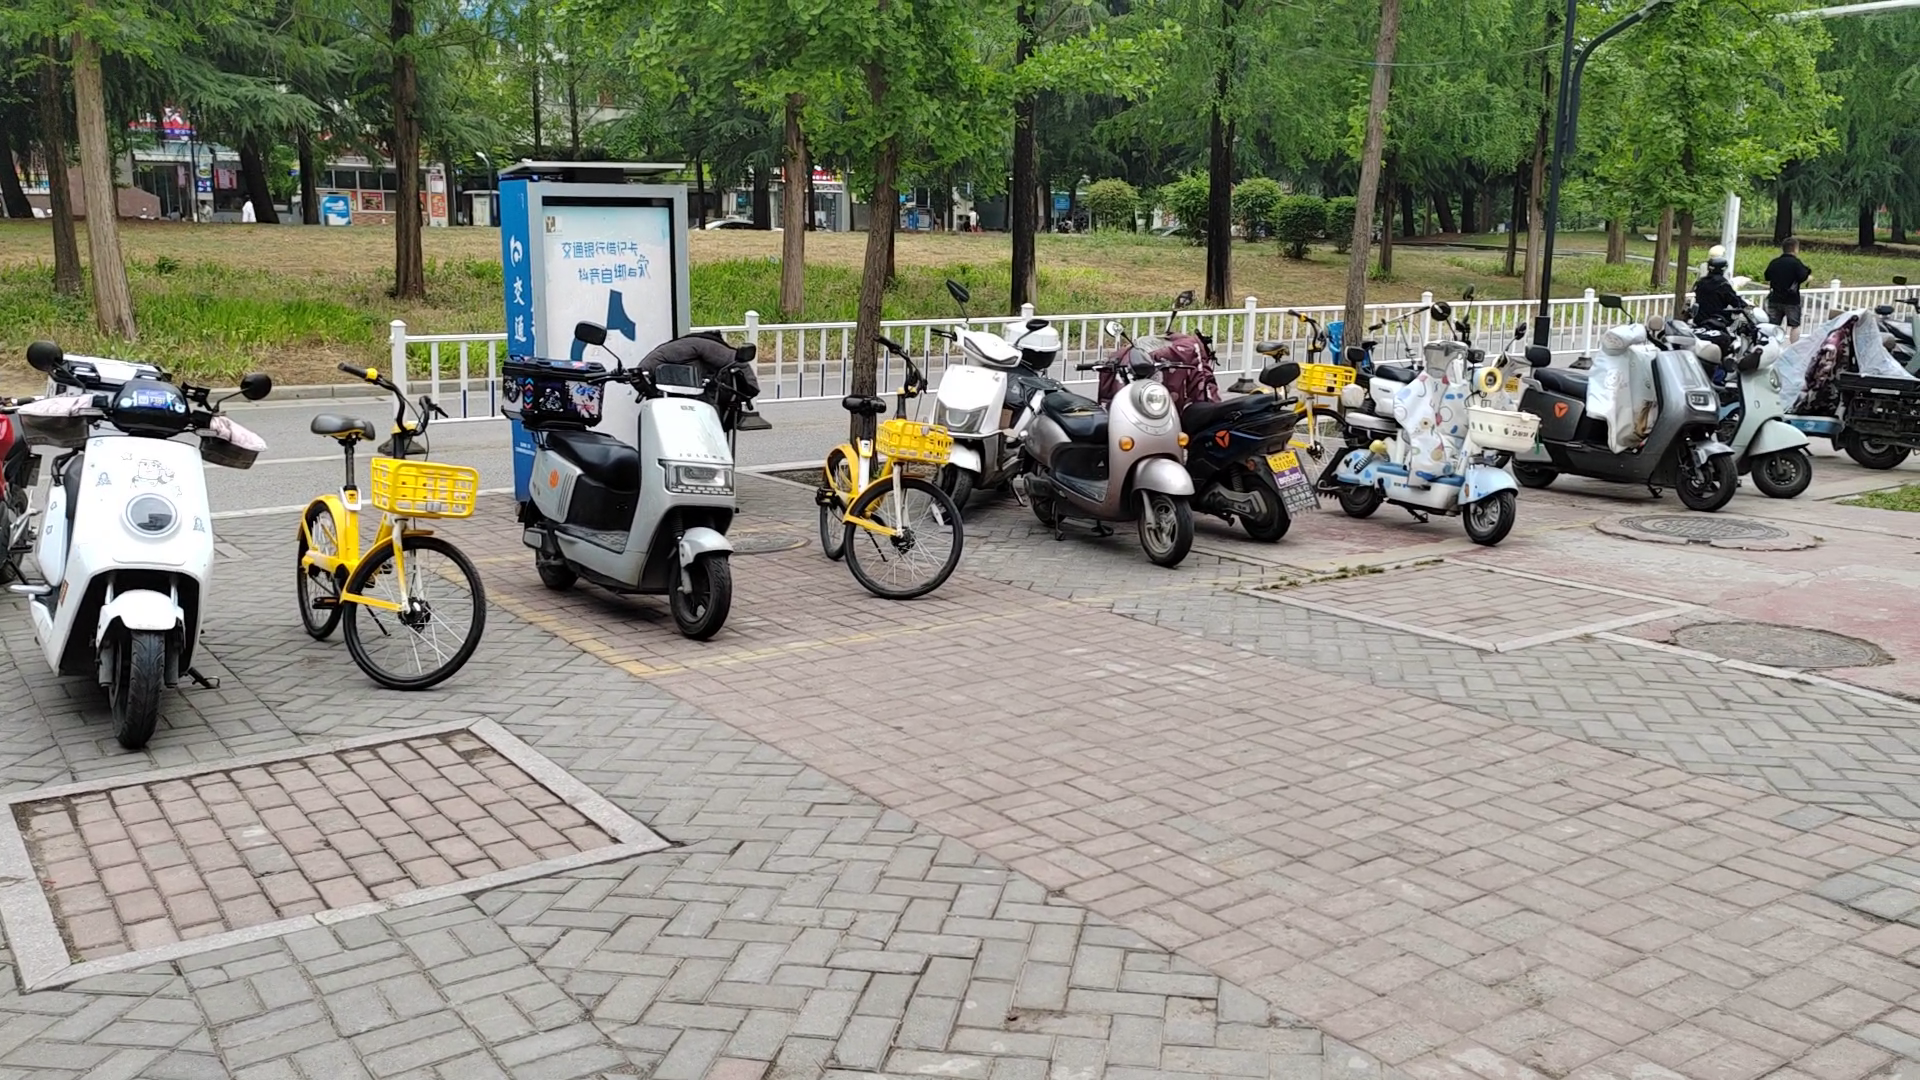others: (4, 322, 236, 721), (498, 316, 745, 651), (1688, 277, 1920, 517), (1523, 314, 1733, 546), (1340, 315, 1516, 553), (1033, 365, 1222, 582), (945, 316, 1068, 516)
shared_bike_meituan: (280, 356, 495, 686), (820, 320, 971, 617), (1224, 314, 1361, 480)
